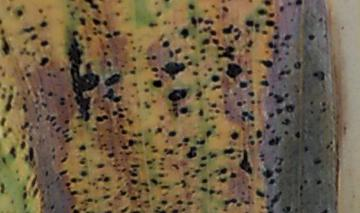tarspot: (67, 39, 100, 122), (162, 63, 186, 80), (240, 150, 253, 174), (226, 62, 243, 79), (103, 72, 121, 87), (103, 88, 122, 102), (168, 89, 188, 102), (218, 48, 235, 61), (271, 191, 282, 207), (1, 37, 10, 55), (261, 168, 274, 179), (223, 23, 233, 35), (187, 147, 197, 159), (6, 94, 13, 111), (260, 59, 273, 68), (85, 1, 99, 9), (179, 28, 190, 38), (257, 7, 269, 16), (285, 104, 296, 113), (210, 74, 221, 83), (96, 114, 108, 122), (31, 174, 38, 187), (239, 80, 249, 89), (152, 79, 162, 88), (29, 146, 35, 161), (274, 134, 282, 145), (223, 146, 234, 154), (40, 57, 49, 66), (230, 131, 239, 140), (275, 94, 284, 103), (256, 189, 265, 198), (79, 16, 87, 26), (265, 19, 275, 27), (260, 80, 270, 88), (277, 156, 285, 166), (128, 169, 138, 177), (31, 187, 39, 197), (282, 118, 291, 126), (246, 19, 254, 28), (187, 2, 195, 11), (212, 37, 220, 46), (225, 198, 237, 204), (150, 177, 158, 186), (20, 122, 30, 129), (190, 16, 197, 26), (203, 18, 213, 25), (312, 158, 322, 165), (24, 26, 35, 32), (10, 148, 16, 159), (16, 9, 24, 17), (307, 33, 315, 41), (172, 162, 180, 170), (128, 138, 136, 146), (78, 143, 86, 151), (19, 141, 27, 149), (92, 18, 101, 25), (104, 32, 113, 39), (294, 61, 301, 70), (284, 34, 293, 41), (154, 11, 163, 18), (247, 90, 256, 97), (198, 108, 205, 117), (168, 49, 175, 58), (85, 196, 94, 203), (1, 156, 8, 165), (22, 102, 28, 112), (256, 129, 262, 139), (320, 71, 326, 81), (179, 107, 189, 113), (58, 169, 68, 175), (40, 40, 48, 47), (125, 31, 133, 38), (168, 130, 176, 137), (268, 138, 275, 146), (221, 5, 229, 12), (197, 16, 204, 24), (235, 100, 243, 107), (203, 25, 211, 32), (203, 38, 210, 46), (195, 90, 202, 98), (220, 167, 227, 175), (219, 177, 227, 184), (105, 127, 113, 134), (103, 194, 111, 201), (133, 147, 140, 155), (40, 102, 49, 108), (268, 41, 274, 50), (229, 172, 238, 178), (140, 181, 149, 187), (24, 154, 30, 163), (212, 85, 222, 90), (31, 34, 38, 41), (72, 30, 79, 37), (113, 30, 120, 37), (50, 115, 57, 122), (55, 126, 62, 133), (158, 114, 165, 121), (276, 108, 283, 115), (239, 115, 246, 122), (210, 30, 217, 37), (162, 41, 169, 48), (175, 47, 182, 54), (244, 198, 251, 205), (131, 178, 138, 185), (121, 206, 128, 213), (100, 143, 107, 150), (49, 204, 56, 211), (1, 131, 8, 138), (40, 21, 48, 27), (85, 36, 93, 42), (44, 113, 50, 121), (1, 117, 7, 125), (117, 113, 125, 119), (197, 139, 205, 145), (206, 130, 212, 138), (303, 145, 309, 153), (199, 48, 207, 54), (191, 70, 199, 76), (183, 54, 191, 60), (151, 66, 159, 72), (199, 162, 207, 168), (160, 199, 168, 205), (130, 195, 138, 201), (97, 163, 105, 169), (103, 176, 111, 182), (70, 190, 78, 196), (21, 132, 27, 140), (247, 39, 252, 48), (181, 179, 186, 188), (161, 184, 170, 189), (130, 163, 139, 168), (148, 23, 159, 27), (171, 209, 182, 213), (155, 209, 166, 213), (1, 182, 5, 193), (7, 5, 13, 12), (37, 8, 44, 14), (81, 8, 88, 14), (103, 20, 109, 27), (114, 11, 121, 17), (34, 98, 40, 105), (127, 118, 134, 124), (156, 127, 163, 133), (121, 129, 128, 135), (117, 106, 124, 112), (268, 112, 275, 118), (274, 49, 280, 56), (286, 1, 293, 7), (279, 5, 285, 12), (234, 26, 240, 33), (246, 69, 253, 75), (248, 115, 255, 121), (242, 110, 249, 116), (315, 179, 322, 185), (269, 178, 275, 185), (209, 188, 215, 195), (202, 178, 208, 185), (183, 170, 189, 177), (174, 181, 181, 187), (187, 200, 194, 206), (120, 190, 127, 196), (113, 195, 120, 201), (99, 132, 105, 139), (107, 200, 113, 207), (69, 177, 76, 183), (37, 114, 42, 122), (62, 128, 70, 133), (182, 137, 190, 142), (295, 1, 303, 6), (284, 91, 289, 99), (264, 1, 272, 6), (217, 46, 225, 51), (200, 187, 208, 192), (176, 200, 184, 205), (78, 160, 86, 165), (60, 157, 68, 162), (23, 203, 28, 211), (28, 134, 33, 142), (59, 66, 65, 72), (46, 71, 52, 77), (112, 110, 118, 116), (147, 127, 153, 133), (321, 101, 327, 107), (131, 56, 137, 62), (129, 39, 135, 45), (132, 81, 138, 87), (124, 105, 130, 111), (264, 123, 270, 129), (268, 91, 274, 97), (286, 69, 292, 75), (280, 70, 286, 76), (277, 75, 283, 81), (284, 50, 290, 56), (269, 12, 275, 18), (162, 20, 168, 26), (235, 34, 241, 40), (229, 39, 235, 45), (225, 109, 231, 115), (204, 117, 210, 123), (173, 106, 179, 112), (286, 207, 292, 213), (281, 207, 287, 213), (276, 167, 282, 173), (247, 184, 253, 190), (240, 190, 246, 196), (190, 188, 196, 194), (144, 141, 150, 147), (121, 167, 127, 173), (117, 175, 123, 181), (115, 184, 121, 190), (70, 204, 76, 210), (63, 132, 69, 138), (51, 154, 57, 160), (137, 47, 143, 53), (59, 101, 66, 106), (63, 119, 70, 124), (106, 60, 111, 67), (47, 92, 54, 97), (33, 93, 40, 98), (8, 126, 13, 133), (1, 92, 6, 99), (9, 84, 14, 91), (118, 124, 125, 129), (318, 16, 323, 23), (129, 69, 136, 74), (262, 30, 269, 35), (246, 28, 251, 35), (217, 67, 224, 72), (212, 102, 217, 109), (145, 104, 152, 109), (299, 184, 304, 191), (236, 202, 243, 207), (217, 188, 222, 195), (194, 168, 201, 173), (190, 174, 197, 179), (146, 160, 153, 165), (121, 145, 128, 150), (143, 199, 150, 204), (126, 151, 133, 156), (107, 152, 114, 157), (103, 186, 110, 191), (81, 171, 88, 176), (64, 182, 71, 187), (10, 198, 15, 205), (22, 184, 27, 191), (157, 173, 165, 177), (73, 209, 81, 213), (31, 51, 36, 57), (19, 50, 25, 55), (23, 39, 28, 45), (74, 5, 79, 11), (78, 35, 83, 41), (77, 123, 83, 128), (92, 127, 98, 132), (99, 106, 105, 111), (40, 87, 45, 93), (2, 86, 7, 92), (137, 131, 142, 137), (250, 140, 255, 146), (314, 72, 319, 78), (322, 33, 328, 38), (271, 129, 277, 134), (296, 88, 301, 94), (274, 34, 280, 39), (261, 74, 267, 79), (153, 1, 159, 6), (210, 4, 216, 9), (216, 14, 221, 20), (203, 8, 209, 13), (245, 48, 251, 53), (249, 78, 254, 84), (256, 99, 261, 105), (250, 100, 256, 105), (250, 122, 255, 128), (233, 91, 238, 97), (198, 29, 203, 35), (190, 45, 196, 50), (202, 72, 208, 77), (216, 109, 222, 114), (196, 80, 201, 86), (195, 62, 200, 68), (187, 61, 193, 66), (154, 73, 160, 78), (322, 208, 328, 213), (260, 204, 265, 210), (258, 153, 264, 158), (214, 168, 220, 173), (208, 172, 213, 178), (202, 155, 207, 161), (177, 142, 182, 148), (175, 193, 180, 199), (168, 150, 174, 155), (164, 138, 169, 144), (138, 139, 143, 145), (145, 188, 151, 193), (124, 181, 130, 186), (97, 177, 102, 183), (94, 198, 99, 204), (81, 156, 87, 161), (77, 178, 83, 183), (64, 151, 69, 157), (51, 147, 57, 152), (44, 170, 49, 176), (22, 193, 27, 199), (14, 169, 19, 175), (25, 72, 32, 76), (27, 89, 31, 96), (296, 131, 300, 138), (207, 109, 214, 113), (229, 156, 236, 160), (151, 195, 155, 202), (152, 149, 159, 153), (92, 180, 96, 187), (56, 175, 60, 182), (65, 139, 72, 143), (160, 33, 163, 42), (131, 210, 140, 213), (1, 72, 6, 77), (26, 51, 31, 56), (70, 11, 75, 16), (97, 9, 102, 14), (93, 26, 98, 31), (93, 31, 98, 36), (106, 44, 111, 49), (103, 51, 108, 56), (100, 98, 105, 103), (52, 122, 57, 127), (212, 124, 217, 129), (248, 134, 253, 139), (241, 126, 246, 131), (284, 130, 289, 135), (322, 108, 327, 113), (310, 110, 315, 115), (130, 93, 135, 98), (281, 42, 286, 47), (274, 26, 279, 31), (264, 49, 269, 54), (255, 23, 260, 28), (255, 28, 260, 33), (207, 67, 212, 72), (218, 94, 223, 99), (223, 100, 228, 105), (210, 116, 215, 121), (202, 84, 207, 89), (152, 55, 157, 60), (143, 80, 148, 85), (299, 192, 304, 197), (211, 154, 216, 159), (164, 147, 169, 152), (156, 205, 161, 210), (160, 166, 165, 171), (159, 162, 164, 167), (151, 145, 156, 150), (137, 203, 142, 208), (138, 189, 143, 194), (111, 145, 116, 150), (91, 137, 96, 142), (87, 180, 92, 185), (83, 207, 88, 212), (59, 146, 64, 151), (40, 197, 45, 202), (1, 29, 5, 35), (22, 75, 26, 81), (26, 64, 32, 68), (60, 97, 66, 101), (72, 130, 78, 134), (132, 133, 138, 137), (120, 64, 126, 68), (192, 33, 195, 41), (137, 102, 141, 108), (151, 99, 157, 103), (144, 88, 150, 92), (266, 194, 270, 200), (223, 207, 229, 211), (148, 166, 154, 170), (138, 194, 142, 200), (162, 192, 168, 196), (104, 210, 112, 213), (40, 190, 46, 194), (26, 176, 32, 180), (32, 161, 36, 167), (214, 207, 220, 211), (66, 4, 71, 8), (99, 30, 103, 35), (69, 104, 74, 108), (16, 91, 20, 96), (330, 140, 334, 145), (310, 100, 314, 105), (132, 46, 137, 50), (286, 44, 290, 49), (277, 57, 282, 61), (174, 25, 178, 30), (201, 56, 206, 60), (224, 93, 228, 98), (205, 97, 210, 101), (146, 56, 151, 60), (168, 108, 173, 112), (304, 179, 308, 184), (266, 205, 270, 210), (261, 158, 266, 162), (184, 143, 189, 147), (175, 151, 179, 156), (161, 157, 166, 161), (119, 151, 123, 156), (112, 164, 117, 168), (95, 186, 100, 190), (84, 190, 89, 194), (46, 184, 50, 189), (16, 178, 21, 182), (36, 125, 40, 130), (220, 1, 226, 4), (23, 97, 27, 101), (326, 145, 330, 149), (133, 66, 137, 70), (290, 18, 294, 22), (250, 110, 254, 114), (145, 66, 149, 70), (144, 101, 148, 105), (175, 113, 179, 117), (238, 154, 242, 158), (168, 205, 172, 209), (115, 158, 119, 162), (120, 157, 124, 161), (91, 144, 95, 148), (80, 201, 84, 205), (274, 44, 277, 49), (248, 1, 253, 4), (173, 103, 178, 106), (152, 158, 157, 161), (134, 167, 137, 172), (119, 140, 122, 145), (164, 1, 171, 3), (1, 19, 3, 25), (54, 74, 57, 78), (118, 1, 122, 4), (68, 94, 71, 98), (259, 140, 262, 144), (284, 65, 288, 68), (243, 99, 246, 103), (196, 98, 200, 101), (182, 208, 186, 211), (67, 188, 71, 191), (1, 65, 3, 70), (118, 169, 121, 172)
